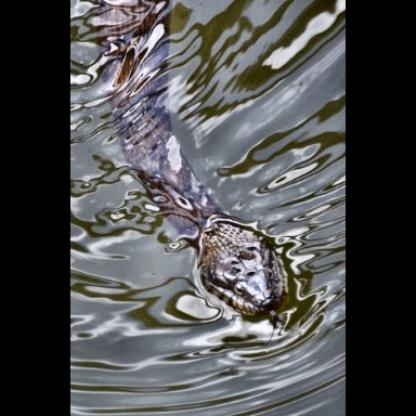Snake: (73, 160, 301, 322)
